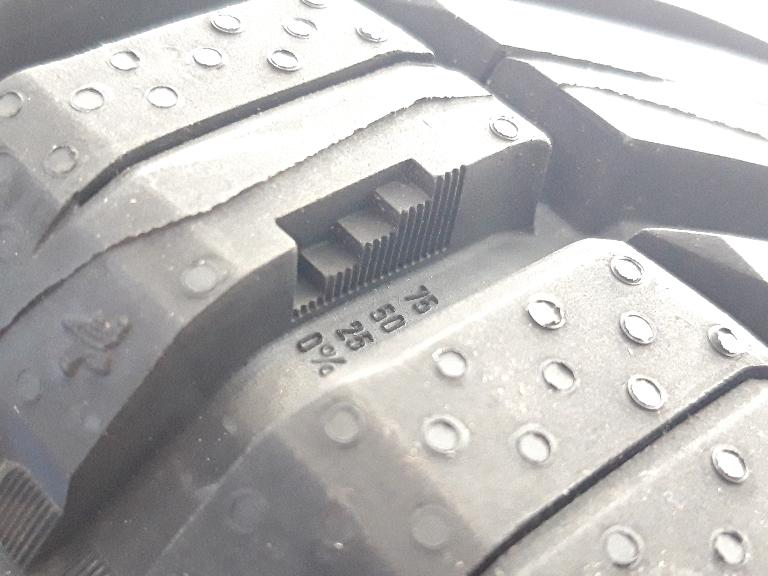temoin:100: (267, 149, 475, 330)
